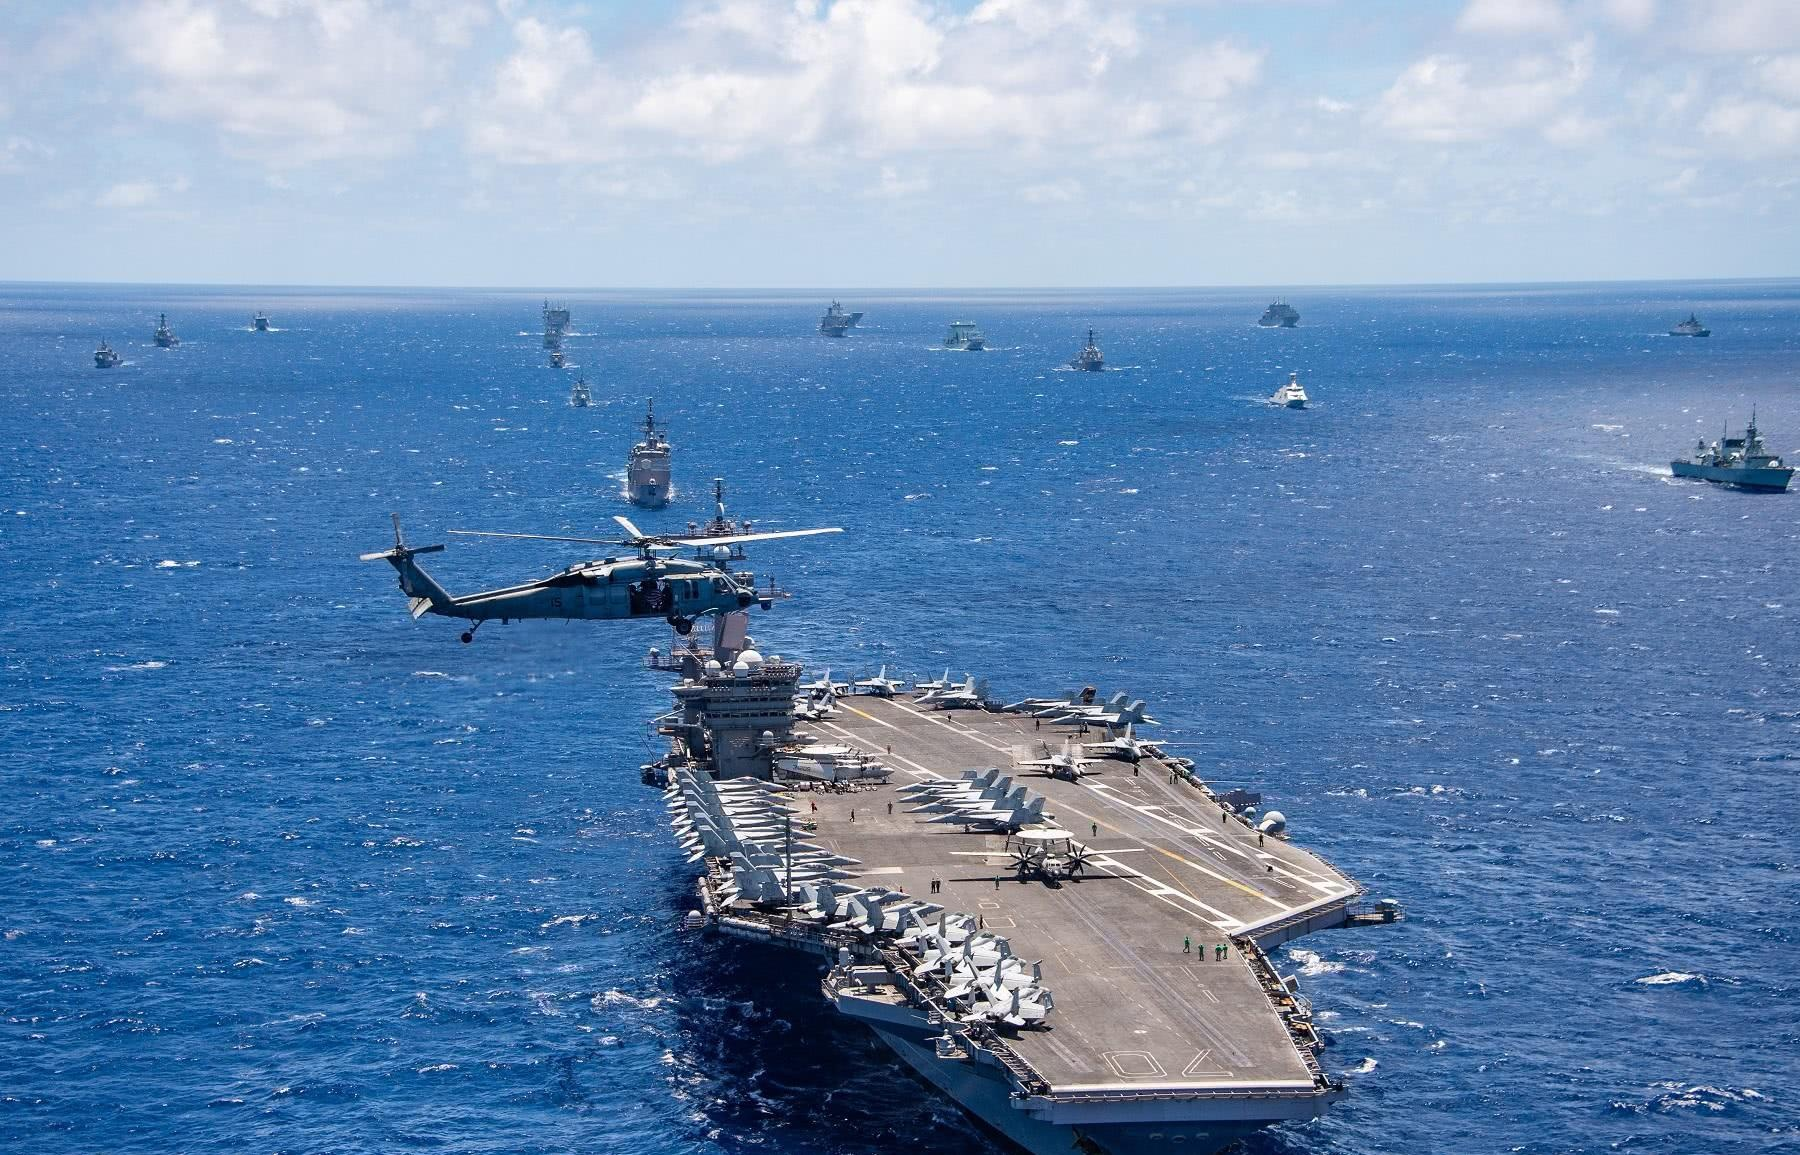airplane: (367, 465, 837, 643)
warship: (632, 543, 1408, 1154), (1660, 403, 1796, 493), (624, 395, 677, 518), (1256, 295, 1303, 329), (1271, 367, 1309, 409), (945, 318, 985, 352), (1069, 329, 1101, 373), (93, 339, 129, 371), (813, 308, 851, 339), (153, 311, 181, 350), (571, 364, 593, 406), (544, 343, 573, 370), (252, 310, 279, 333)
